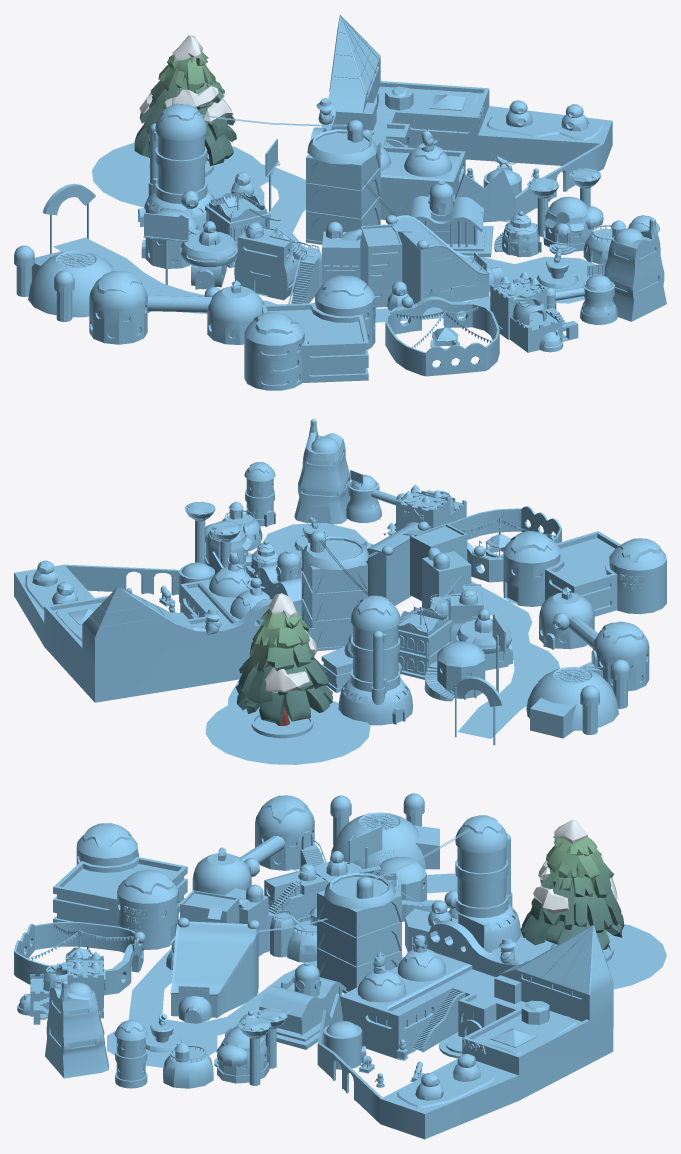
The model's file is Neighborhood_PenguPlazaLocked_03.fbx.
3 views of the same model, one above another, from view 1: azimuth 30°, elevation 25°; view 2: azimuth 150°, elevation 25°; view 3: azimuth 270°, elevation 25° (orthographic). The views are drawn at different scales.
Visible parts, largest first — view 1: Neighborhood_PenguPlaza_Locked_03_pasted__PenguPlazaNEW_grou, pasted__pasted__pasted__Tree_17; view 2: Neighborhood_PenguPlaza_Locked_03_pasted__PenguPlazaNEW_grou, pasted__pasted__pasted__Tree_17; view 3: Neighborhood_PenguPlaza_Locked_03_pasted__PenguPlazaNEW_grou, pasted__pasted__pasted__Tree_17.
Boxes of the visible parts, x1,y1,x2,y2 form: Neighborhood_PenguPlaza_Locked_03_pasted__PenguPlazaNEW_grou: [14, 14, 666, 390]; pasted__pasted__pasted__Tree_17: [134, 35, 236, 166]; Neighborhood_PenguPlaza_Locked_03_pasted__PenguPlazaNEW_grou: [14, 419, 666, 764]; pasted__pasted__pasted__Tree_17: [235, 593, 332, 725]; Neighborhood_PenguPlaza_Locked_03_pasted__PenguPlazaNEW_grou: [14, 793, 666, 1139]; pasted__pasted__pasted__Tree_17: [520, 820, 624, 949].
Size of the model in its own units: 6772 by 1694 by 6211.
